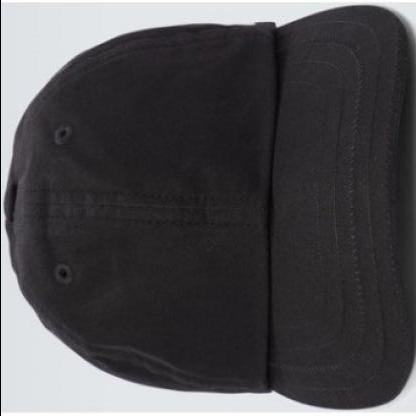cap: (0, 1, 411, 406)
